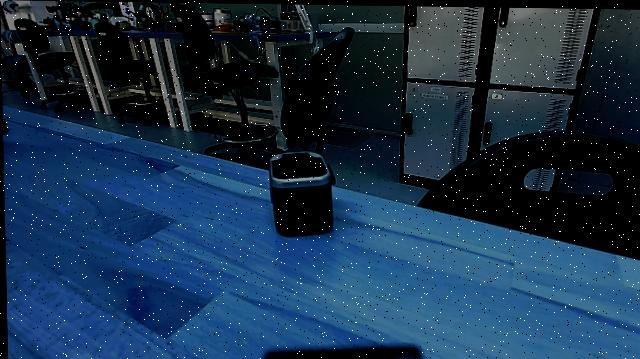adapter: (260, 150, 335, 239)
